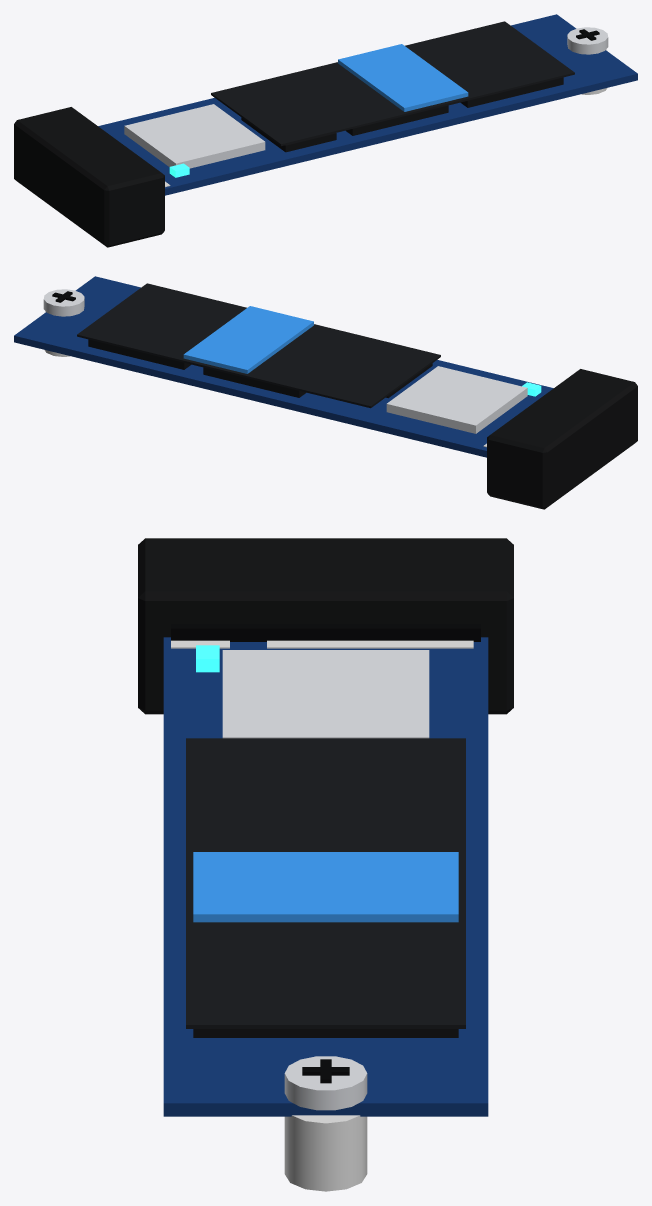
File: hwm_sto_hdd_2tb.glb
The picture shows the model from 3 angles, top to bottom: view 1: azimuth 30°, elevation 25°; view 2: azimuth 150°, elevation 25°; view 3: azimuth 270°, elevation 25°; orthographic projection. The views are drawn at different scales.
Visible parts, largest first — view 1: SSD_0, Slots, Screw_0; view 2: SSD_0, Slots, Screw_0; view 3: SSD_0, Slots, Screw_0.
Part boxes in pixels (x1,y1,x2,y2): SSD_0: [98, 14, 637, 195]; Slots: [14, 49, 607, 247]; Screw_0: [567, 27, 608, 54]; SSD_0: [14, 276, 553, 457]; Slots: [44, 311, 637, 509]; Screw_0: [43, 289, 84, 316]; SSD_0: [163, 637, 488, 1116]; Slots: [138, 538, 513, 1191]; Screw_0: [284, 1056, 367, 1110].
Size of the model in its own units: 0.0855 by 0.0092 by 0.0255.
